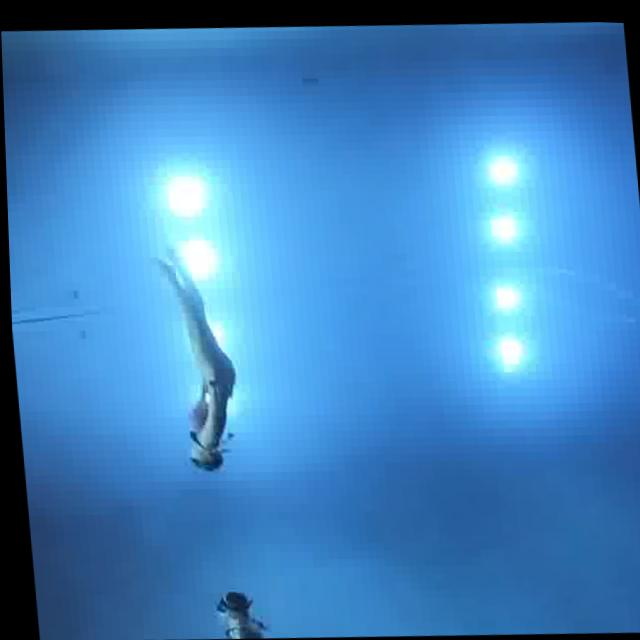human: (143, 233, 249, 495), (192, 569, 285, 640)
